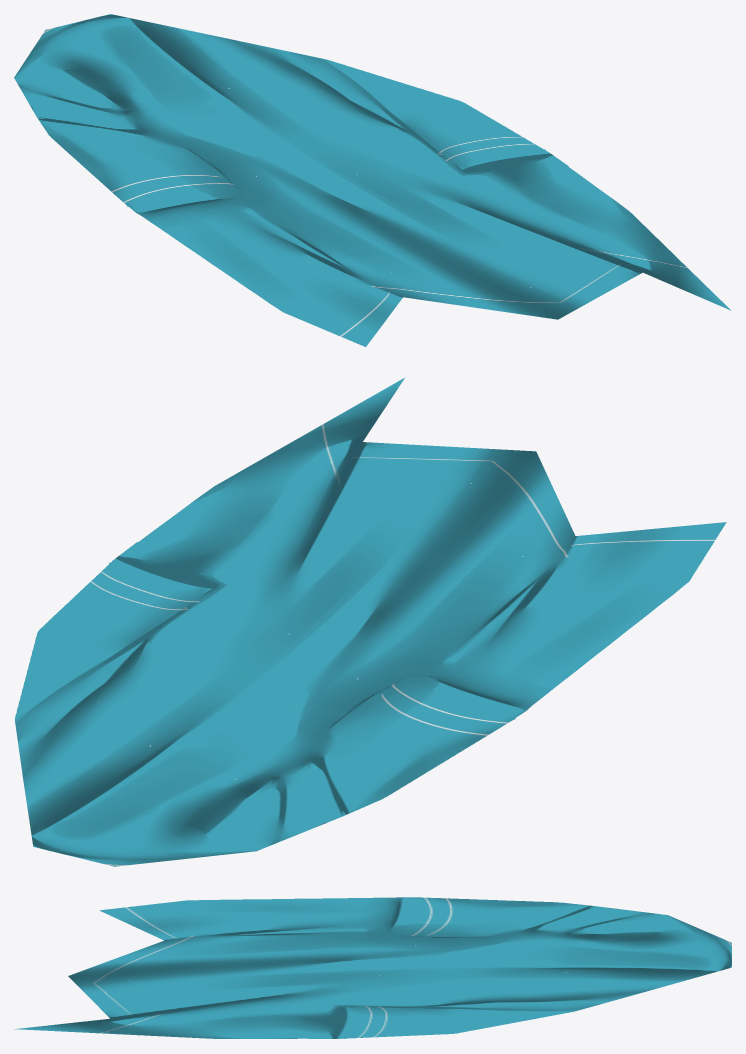
The model's file is Bajurapi.FBX.
3 views of the same model, one above another, from view 1: azimuth 30°, elevation 25°; view 2: azimuth 150°, elevation 25°; view 3: azimuth 270°, elevation 25° (orthographic). The views are drawn at different scales.
Visible parts, largest first — view 1: Plane001; view 2: Plane001; view 3: Plane001.
Part boxes in pixels (x1,y1,x2,y2): Plane001: (14, 14, 731, 346); Plane001: (15, 377, 726, 866); Plane001: (14, 897, 731, 1038).
Bounding box in the file's own units: 52.99 × 111 × 0.
Materials: 1 (1 with a texture image).
